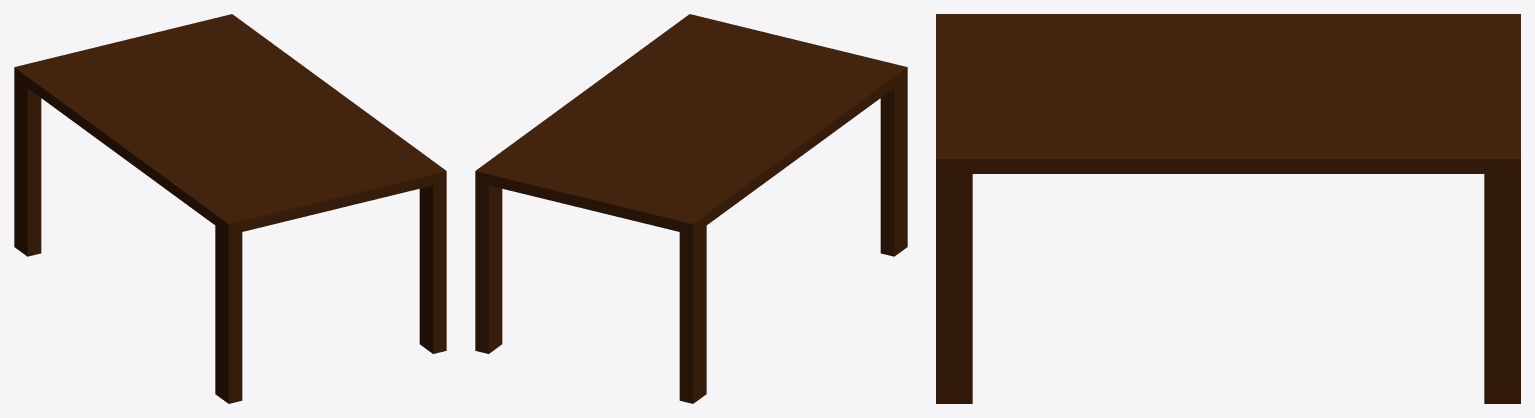
The model's file is table.glb.
The picture shows the model from 3 angles, left to right: view 1: azimuth 30°, elevation 25°; view 2: azimuth 150°, elevation 25°; view 3: azimuth 270°, elevation 25°; orthographic projection. The views are drawn at different scales.
Visible parts, largest first — view 1: Cube; view 2: Cube; view 3: Cube.
Part boxes in pixels (x1,y1,x2,y2): Cube: (14,14,446,403); Cube: (475,14,907,403); Cube: (936,14,1520,403).
Bounding box in the file's own units: 4.24 × 3.34 × 7.22.
